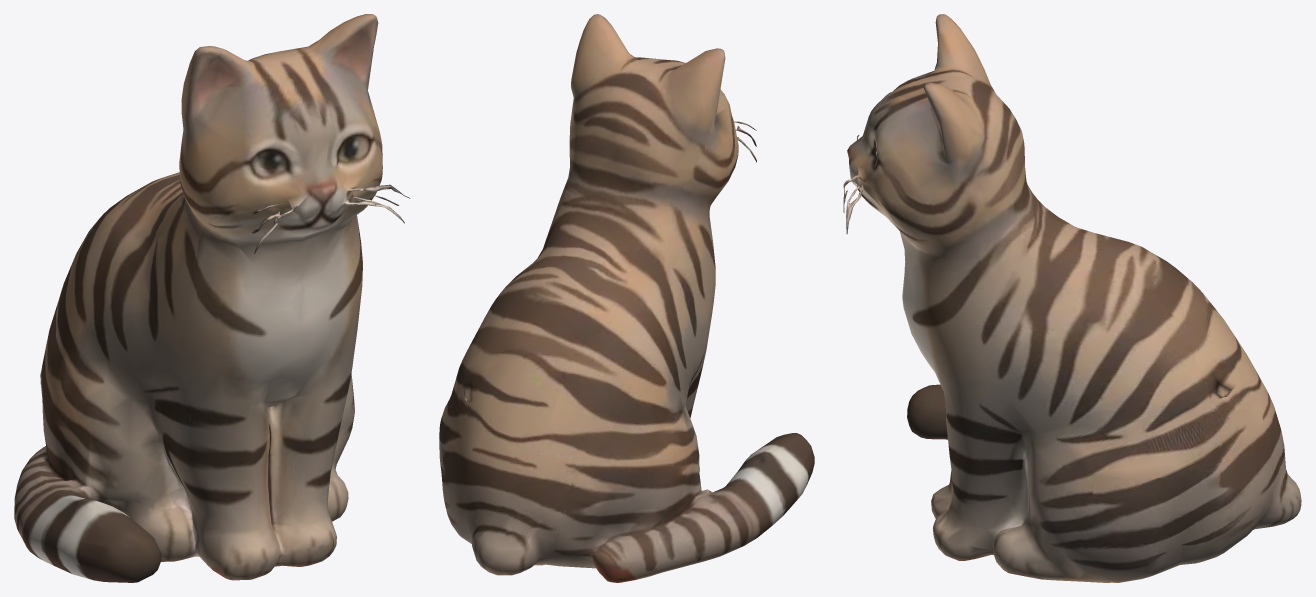
Rendered from tato.glb.
The picture shows the model from 3 angles, left to right: view 1: azimuth 30°, elevation 25°; view 2: azimuth 150°, elevation 25°; view 3: azimuth 270°, elevation 25°; orthographic projection. The views are drawn at different scales.
Bounding box in the file's own units: 1.33 × 2 × 1.69.
Materials: 1 (1 with a texture image).
